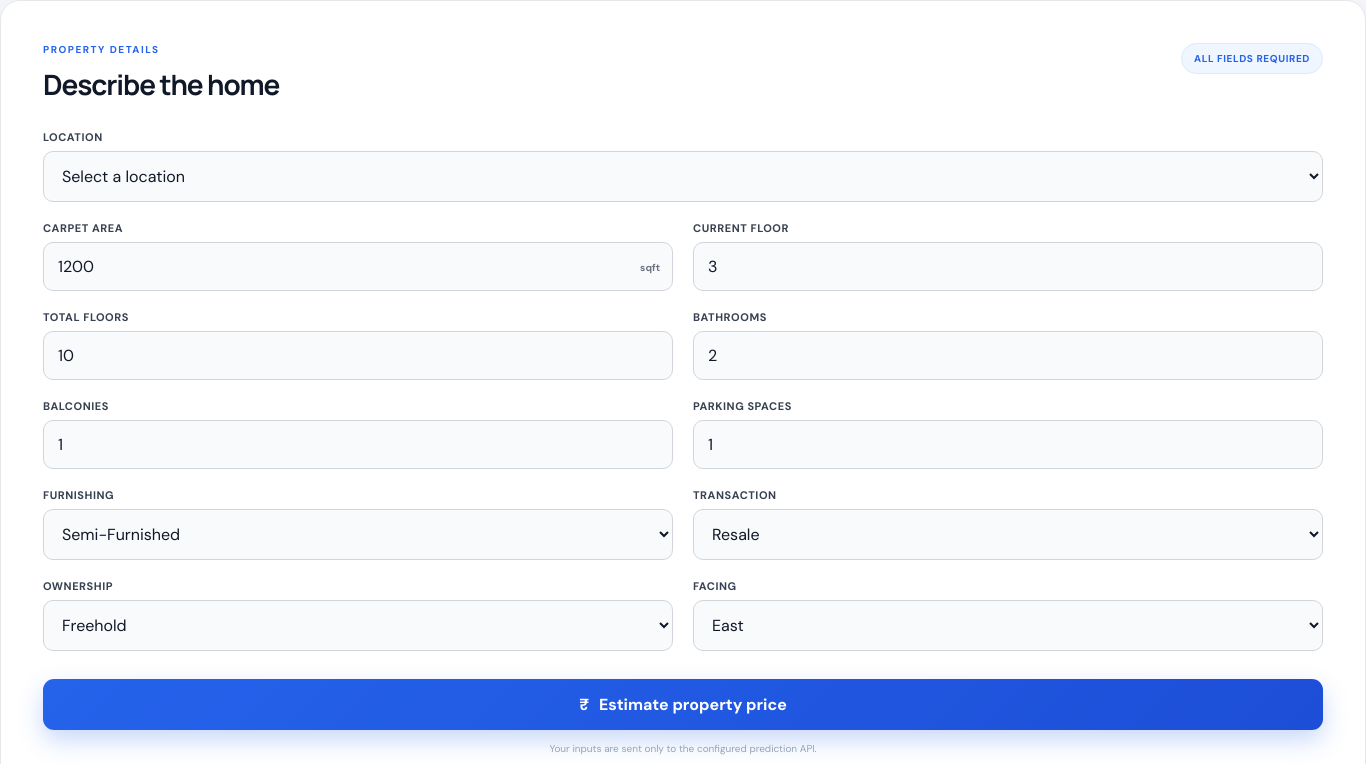
Scenario: PredictionForm › shows friendly validation for invalid area
This screenshot has width=1366, height=764.
Select "mumbai" in the dropdown labelled "Location". click: coordinates (683, 177)
box: [43,151,1323,202]
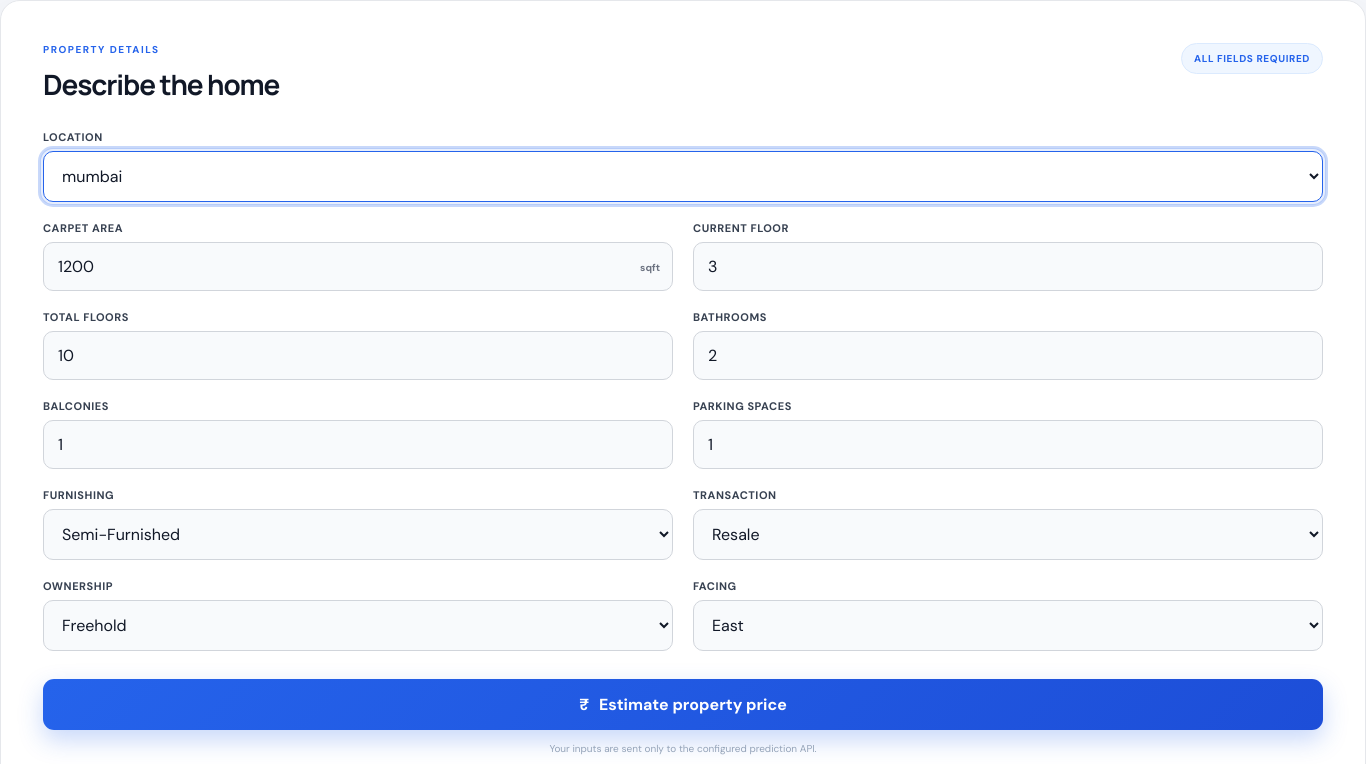
Replace the text in the number field labelled "Carpet area sqft" with "0". click: coordinates (358, 267)
box: [43,242,673,291]
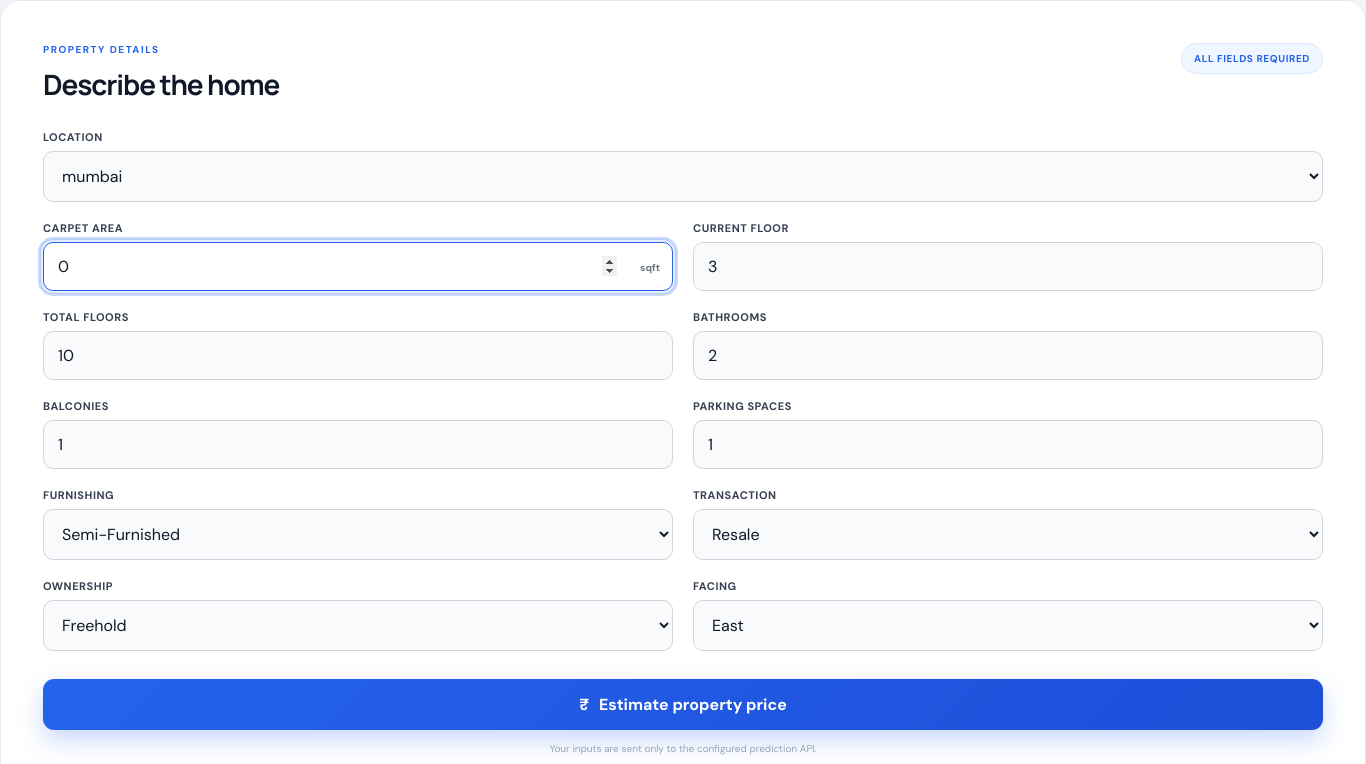
Click the button "₹ Estimate property price". click: coordinates (683, 705)
box: [43,679,1323,730]
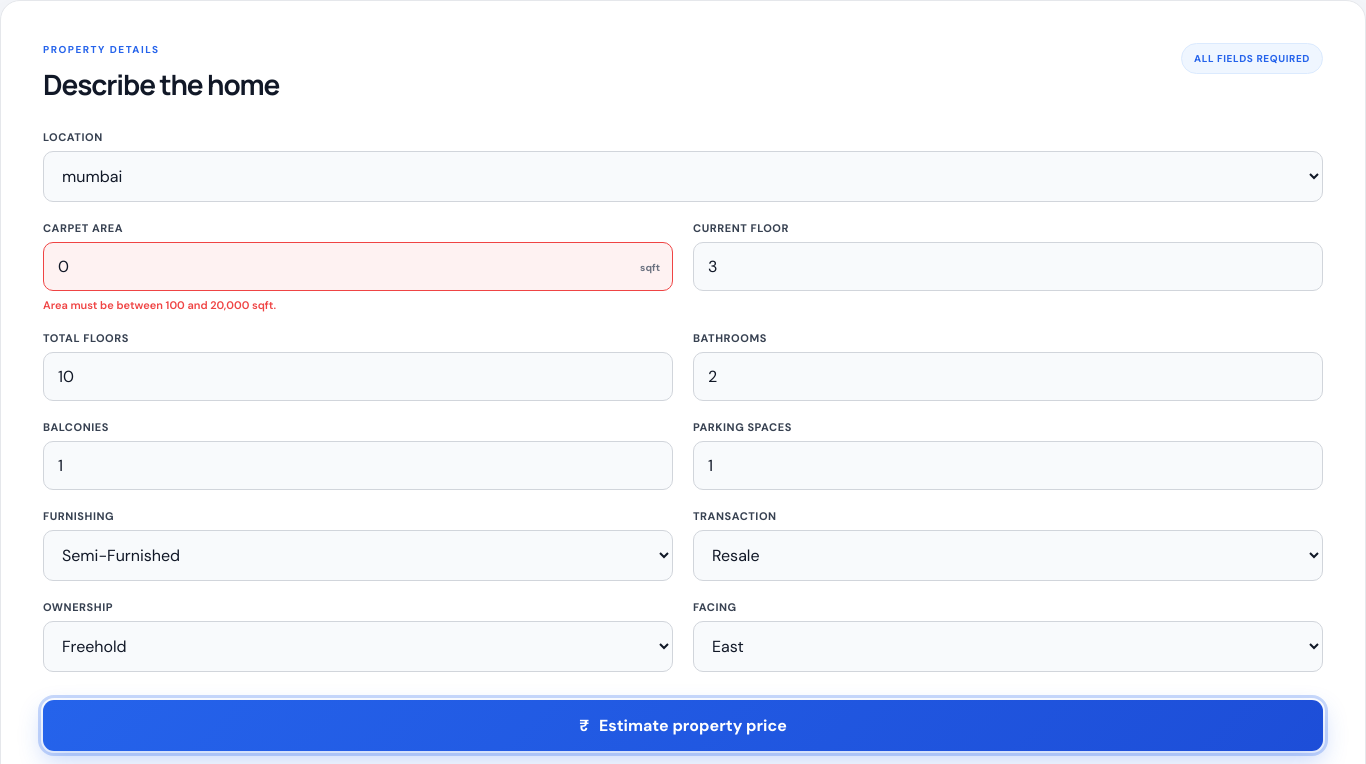
Check: the text "Area must be between 100 and 20,000 sqft." is shown, box [43,298,276,312]
